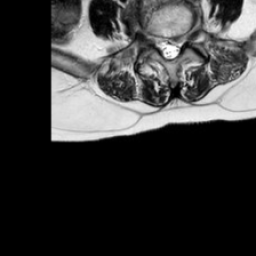CCS_normal: (165, 26, 172, 66)
LFS_normal: (180, 23, 188, 51)
LLS_normal: (172, 28, 180, 60)
RFS_normal: (149, 24, 157, 54)
RLS_normal: (157, 25, 165, 62)
